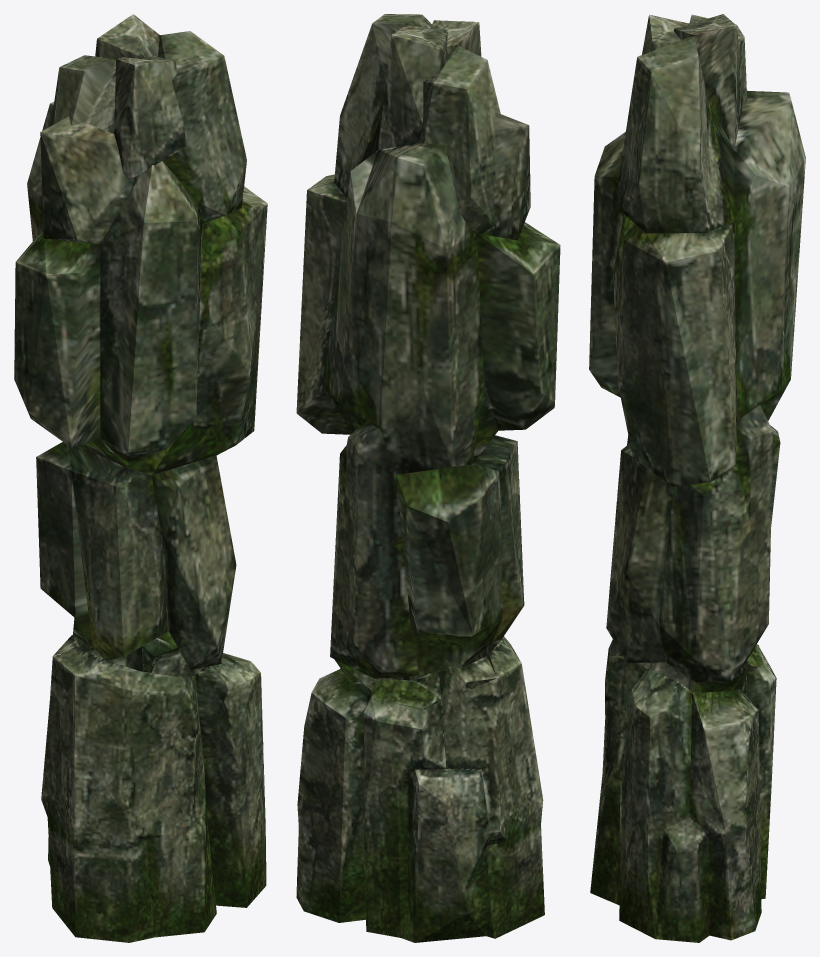
Rendered from lianqizong_shitou09b_st.FBX.
The picture shows the model from 3 angles, left to right: view 1: azimuth 30°, elevation 25°; view 2: azimuth 150°, elevation 25°; view 3: azimuth 270°, elevation 25°; orthographic projection. The views are drawn at different scales.
Visible parts, largest first — view 1: lianqizong_shitou09b_st_A01, lianqizong_shitou09b_st_A02; view 2: lianqizong_shitou09b_st_A01, lianqizong_shitou09b_st_A02; view 3: lianqizong_shitou09b_st_A01, lianqizong_shitou09b_st_A02.
Boxes of the visible parts, box(x1,y1,x2,y2) form: lianqizong_shitou09b_st_A01: box(14, 14, 267, 669); lianqizong_shitou09b_st_A02: box(41, 631, 266, 942); lianqizong_shitou09b_st_A01: box(296, 14, 560, 678); lianqizong_shitou09b_st_A02: box(296, 636, 544, 942); lianqizong_shitou09b_st_A01: box(589, 14, 805, 682); lianqizong_shitou09b_st_A02: box(590, 639, 776, 942).
Size of the model in its own units: 301 by 1048 by 237.
